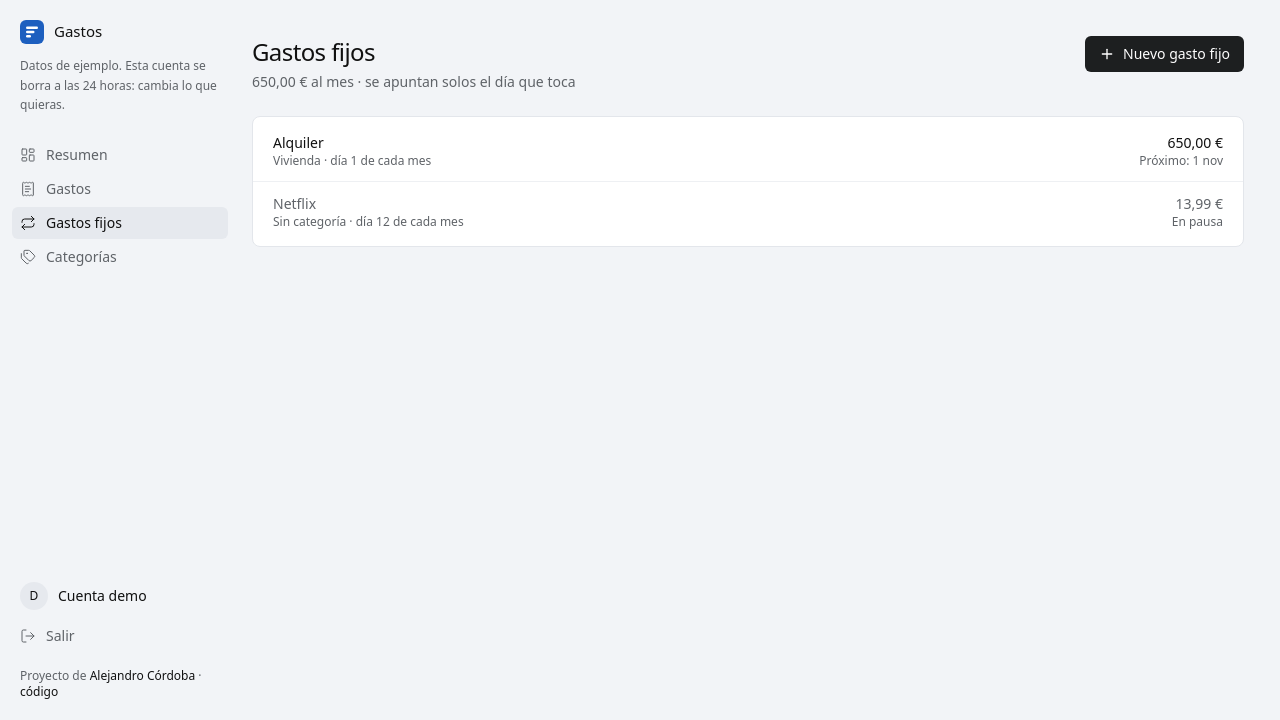
Test case: recurring expenses page › warns that late days fall on the last day of short months
Click the button "Nuevo gasto fijo" at (1164, 54), box [1085,36,1244,72]
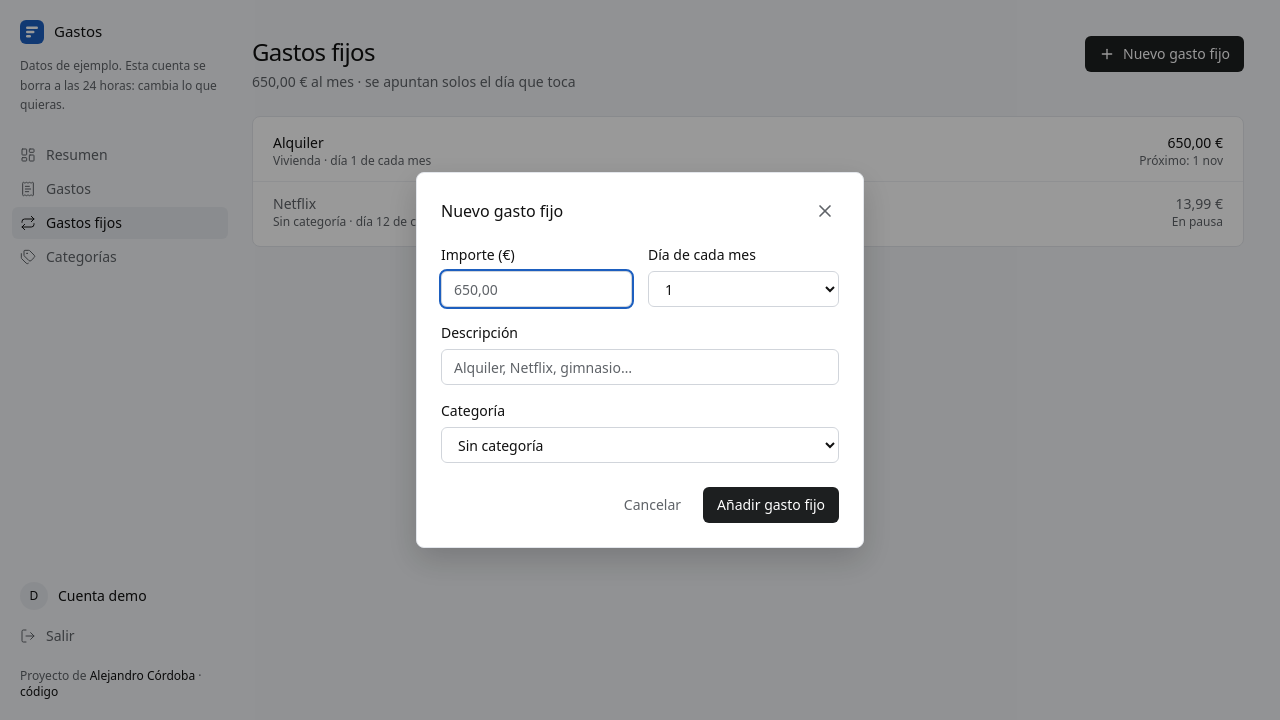
Select "31" in the dropdown labelled "Día de cada mes" at (744, 289), box [648,271,839,307]
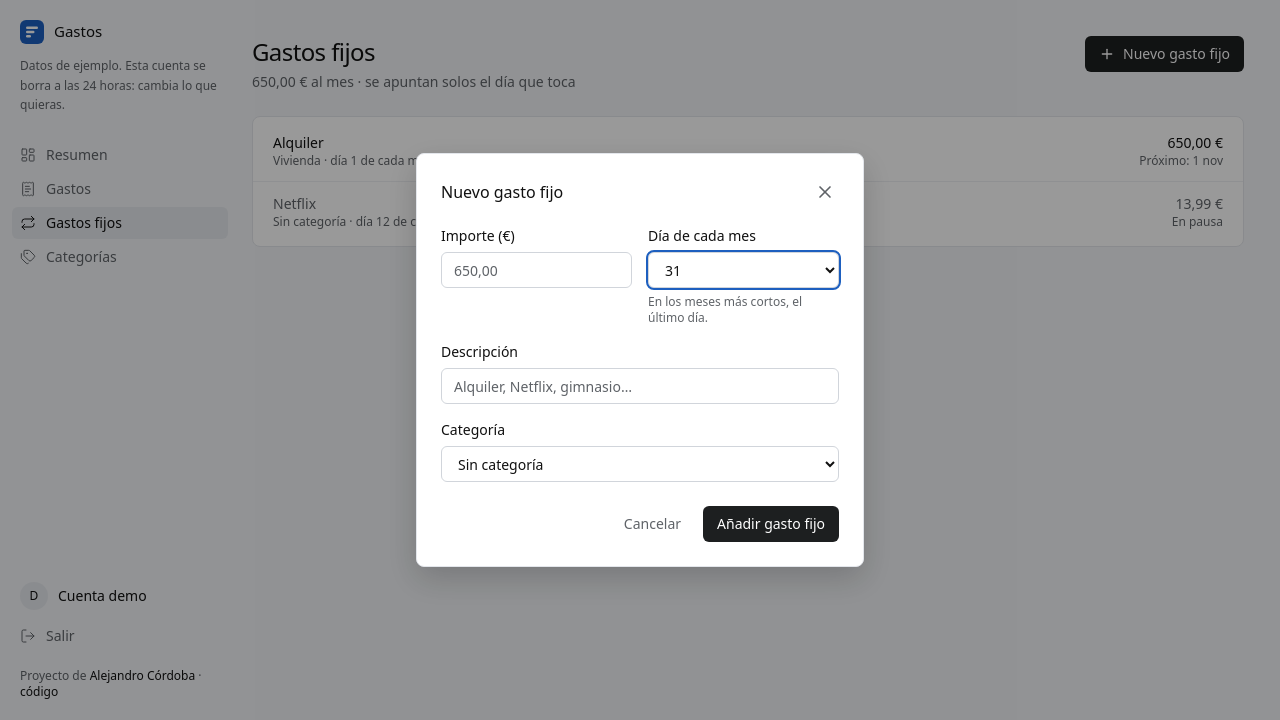
Now the text "En los meses más cortos, el último día." is shown, box [648,293,802,326]
